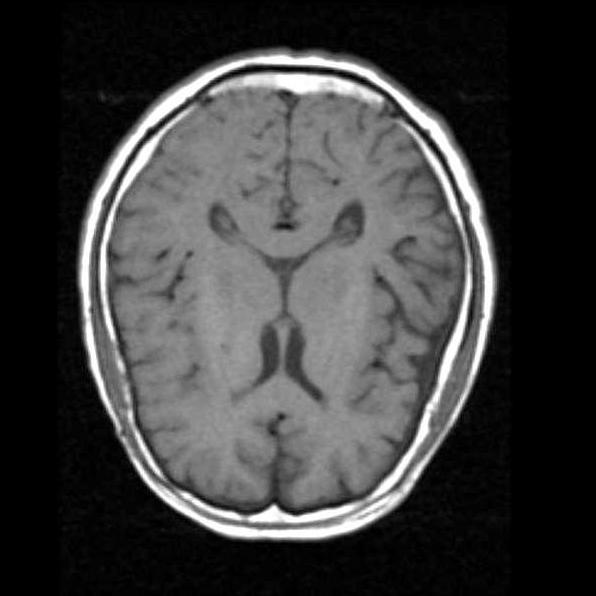Normal_Brain: (1, 1, 564, 596)
